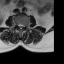CCS_normal: (20, 22, 21, 31)
LFS_stenosis: (23, 22, 26, 29)
LLS_normal: (21, 22, 23, 29)
RFS_stenosis: (16, 21, 18, 27)
RLS_normal: (18, 22, 20, 29)
